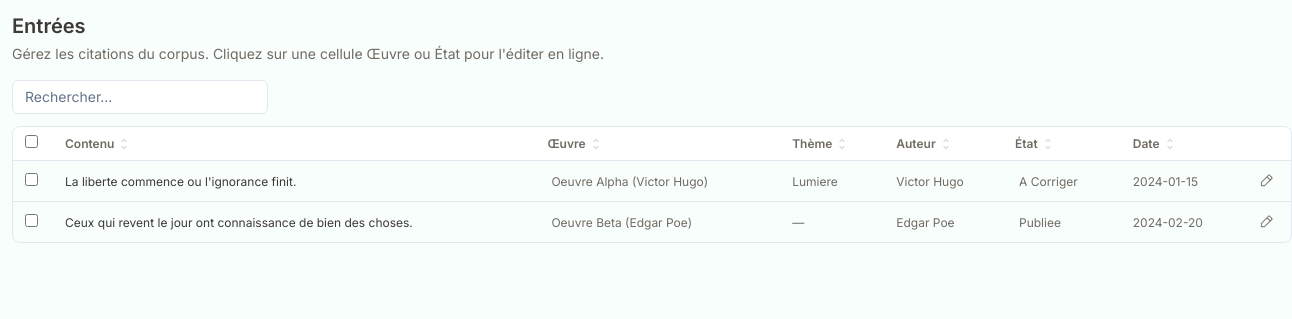
it: CitationsAdminPage › la selection active la barre actions groupees
Expected: the row with test id "citation-row-1" is shown, [13,160,1291,202]
Click the checkbox named "Sélectionner entrée 1" at {"x": 32, "y": 180}, box [25,173,38,186]
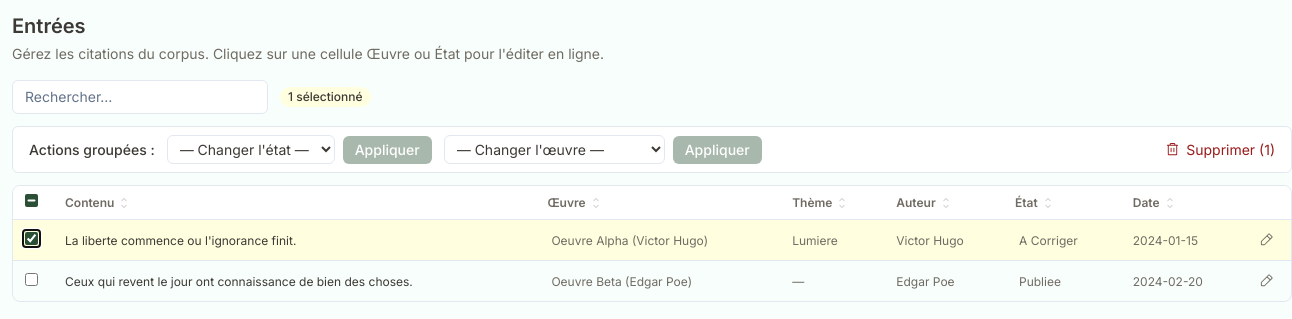
Now the element with test id "bulk-actions-bar" is shown, box [12,126,1291,173]
